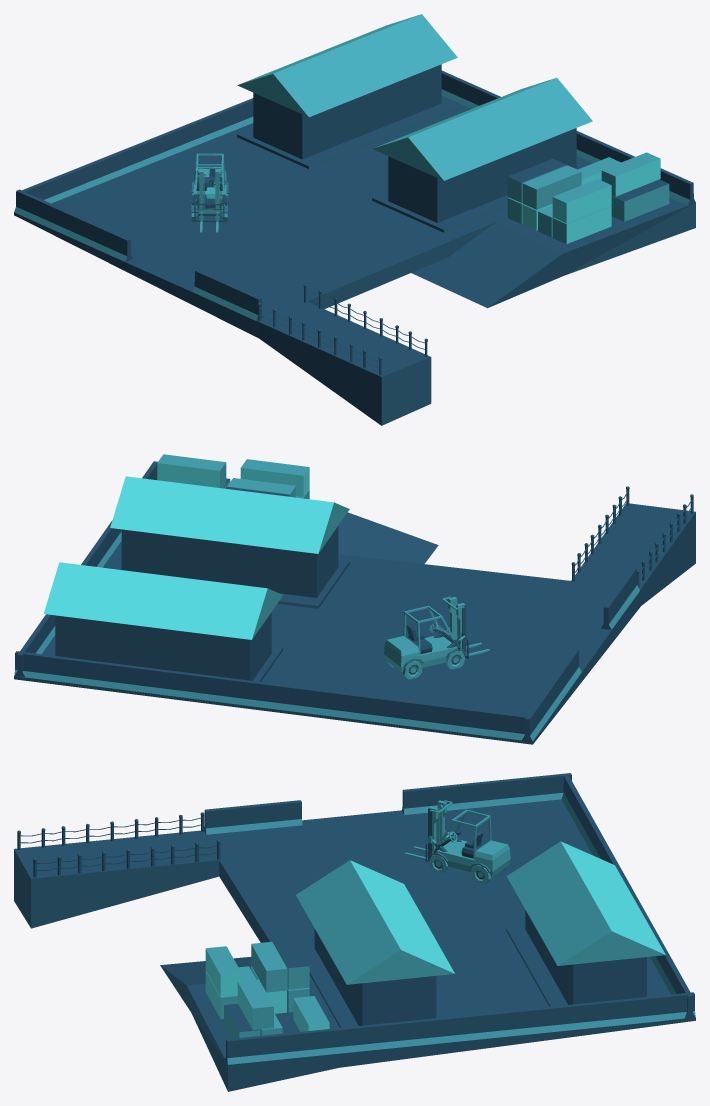
The model's file is Super_Ship_LV1.FBX.
3 views of the same model, one above another, from view 1: azimuth 30°, elevation 25°; view 2: azimuth 150°, elevation 25°; view 3: azimuth 270°, elevation 25° (orthographic). The views are drawn at different scales.
Visible parts, largest first — view 1: Super_Ship; view 2: Super_Ship; view 3: Super_Ship.
Boxes of the visible parts, bbox=[...] form: Super_Ship: bbox=[14, 14, 695, 425]; Super_Ship: bbox=[14, 454, 695, 744]; Super_Ship: bbox=[14, 773, 695, 1091].
Size of the model in its own units: 44.15 by 10.37 by 46.93.
